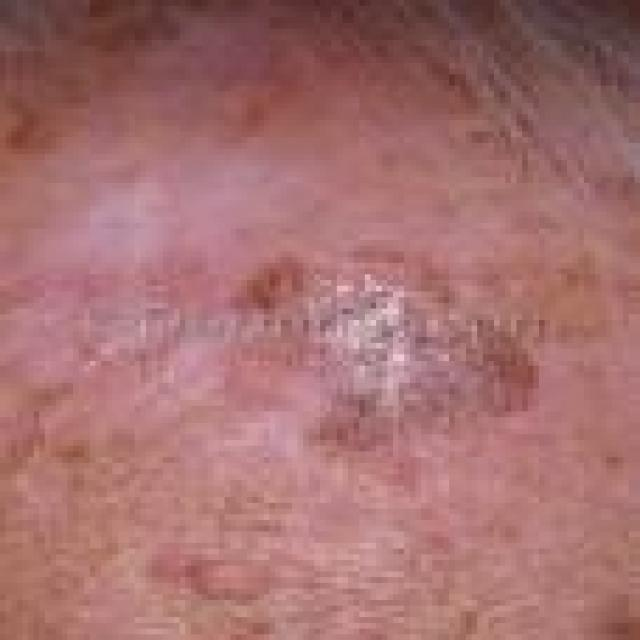Melasma: (246, 247, 536, 460)
